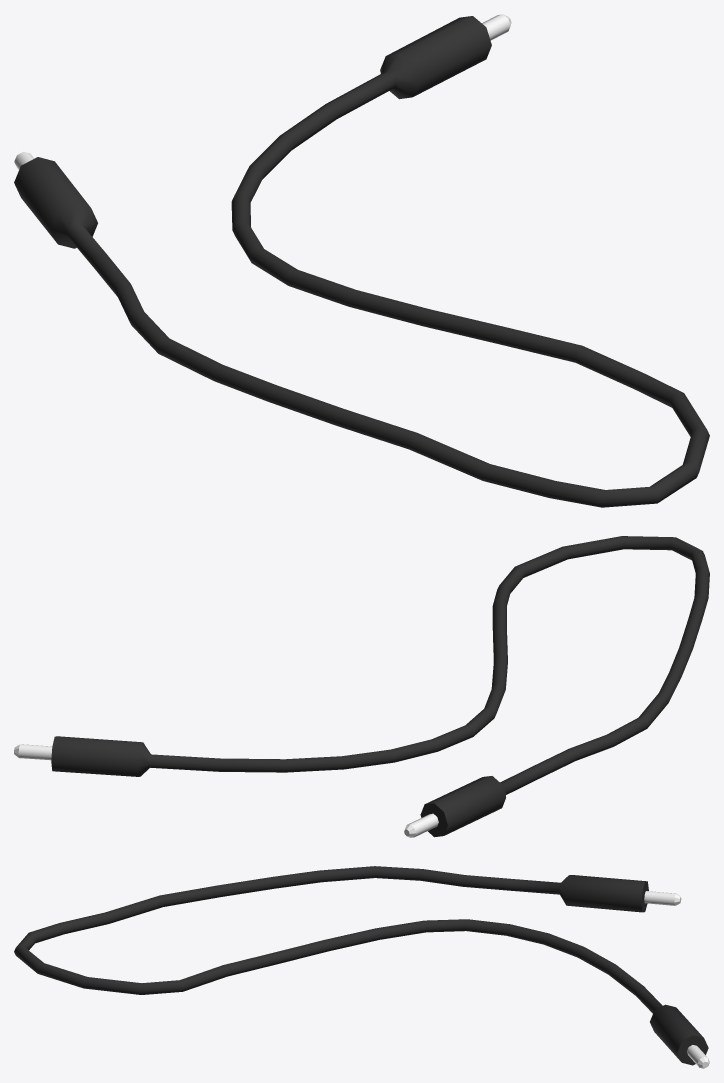
Rendered from ElectroWires01_2.FBX.
3 views of the same model, one above another, from view 1: azimuth 30°, elevation 25°; view 2: azimuth 150°, elevation 25°; view 3: azimuth 270°, elevation 25° (orthographic). The views are drawn at different scales.
Parts seen in each view (by area): view 1: Wire01; view 2: Wire01; view 3: Wire01.
Part boxes in pixels (box(x1,y1,x2,y2)): Wire01: box(14, 14, 709, 507); Wire01: box(14, 536, 709, 837); Wire01: box(14, 866, 709, 1068).
Size of the model in its own units: 38.36 by 2.77 by 57.61.
